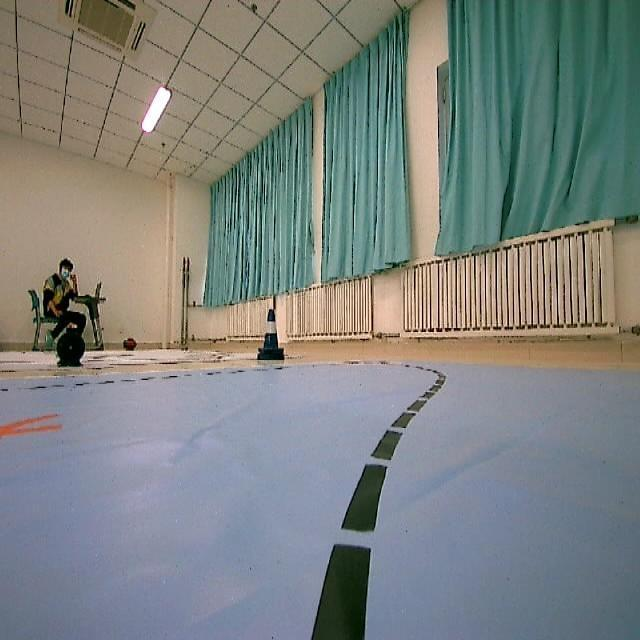obstacle: (253, 303, 284, 371)
